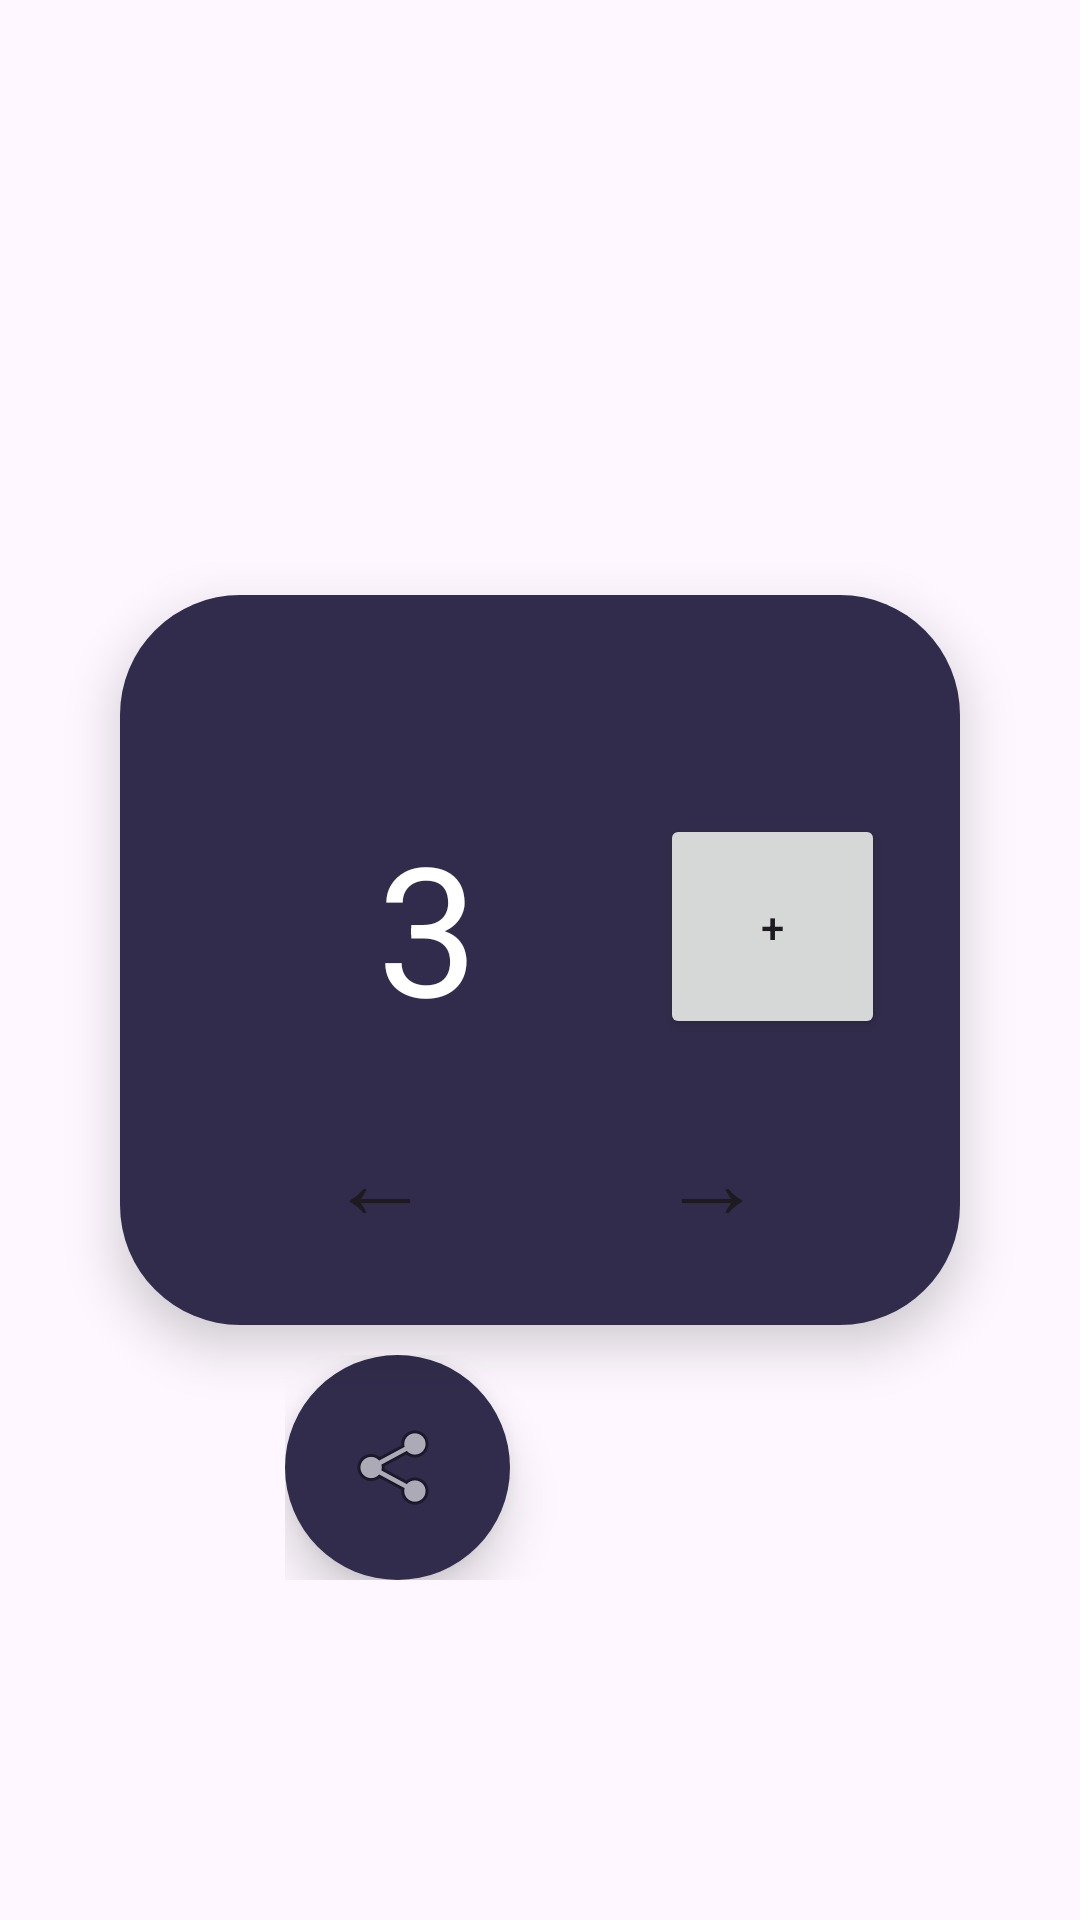

Icon click points for this 1080*1920 phone screenshot, format (x=x, y=y):
share: (x=397, y=1467)
